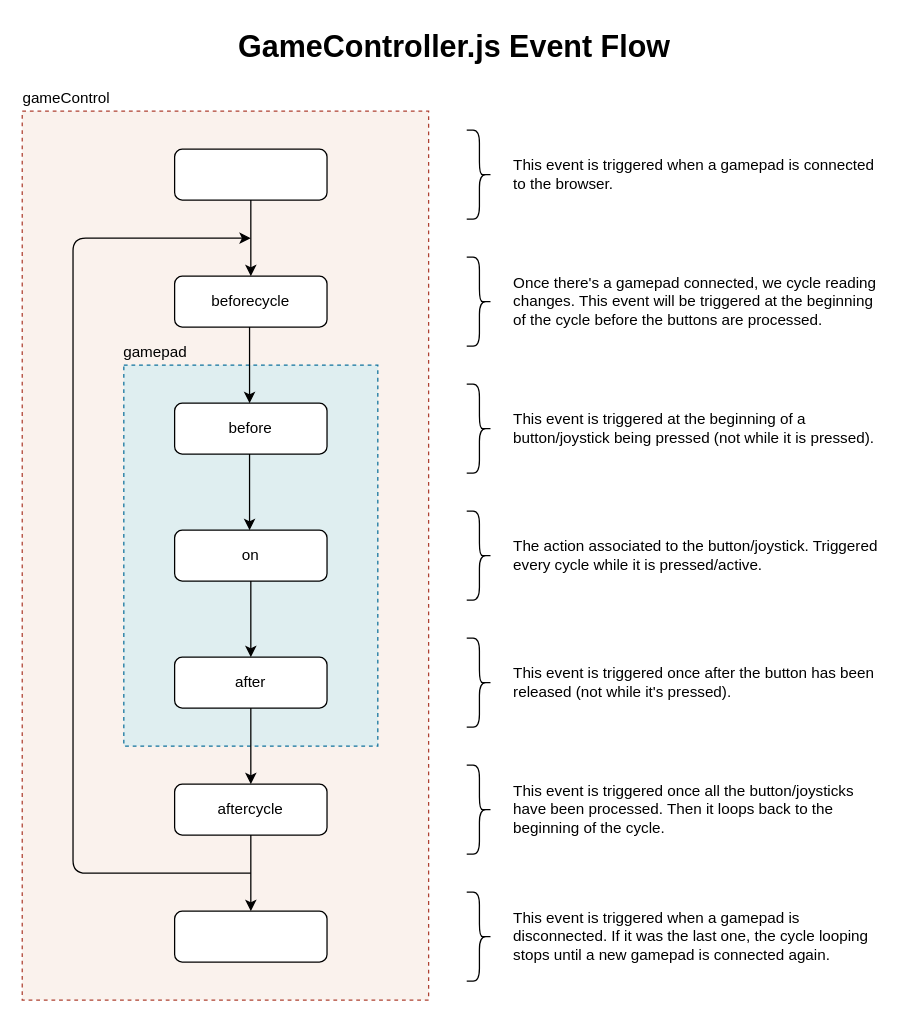
Image size: 908x1022. Some labels were removed from this diagram. Here are the shapes that lost their labels. From the top down, the centre of each, then its label:
At pixel 250 174: "connect".
At pixel 250 936: "disconnect".
